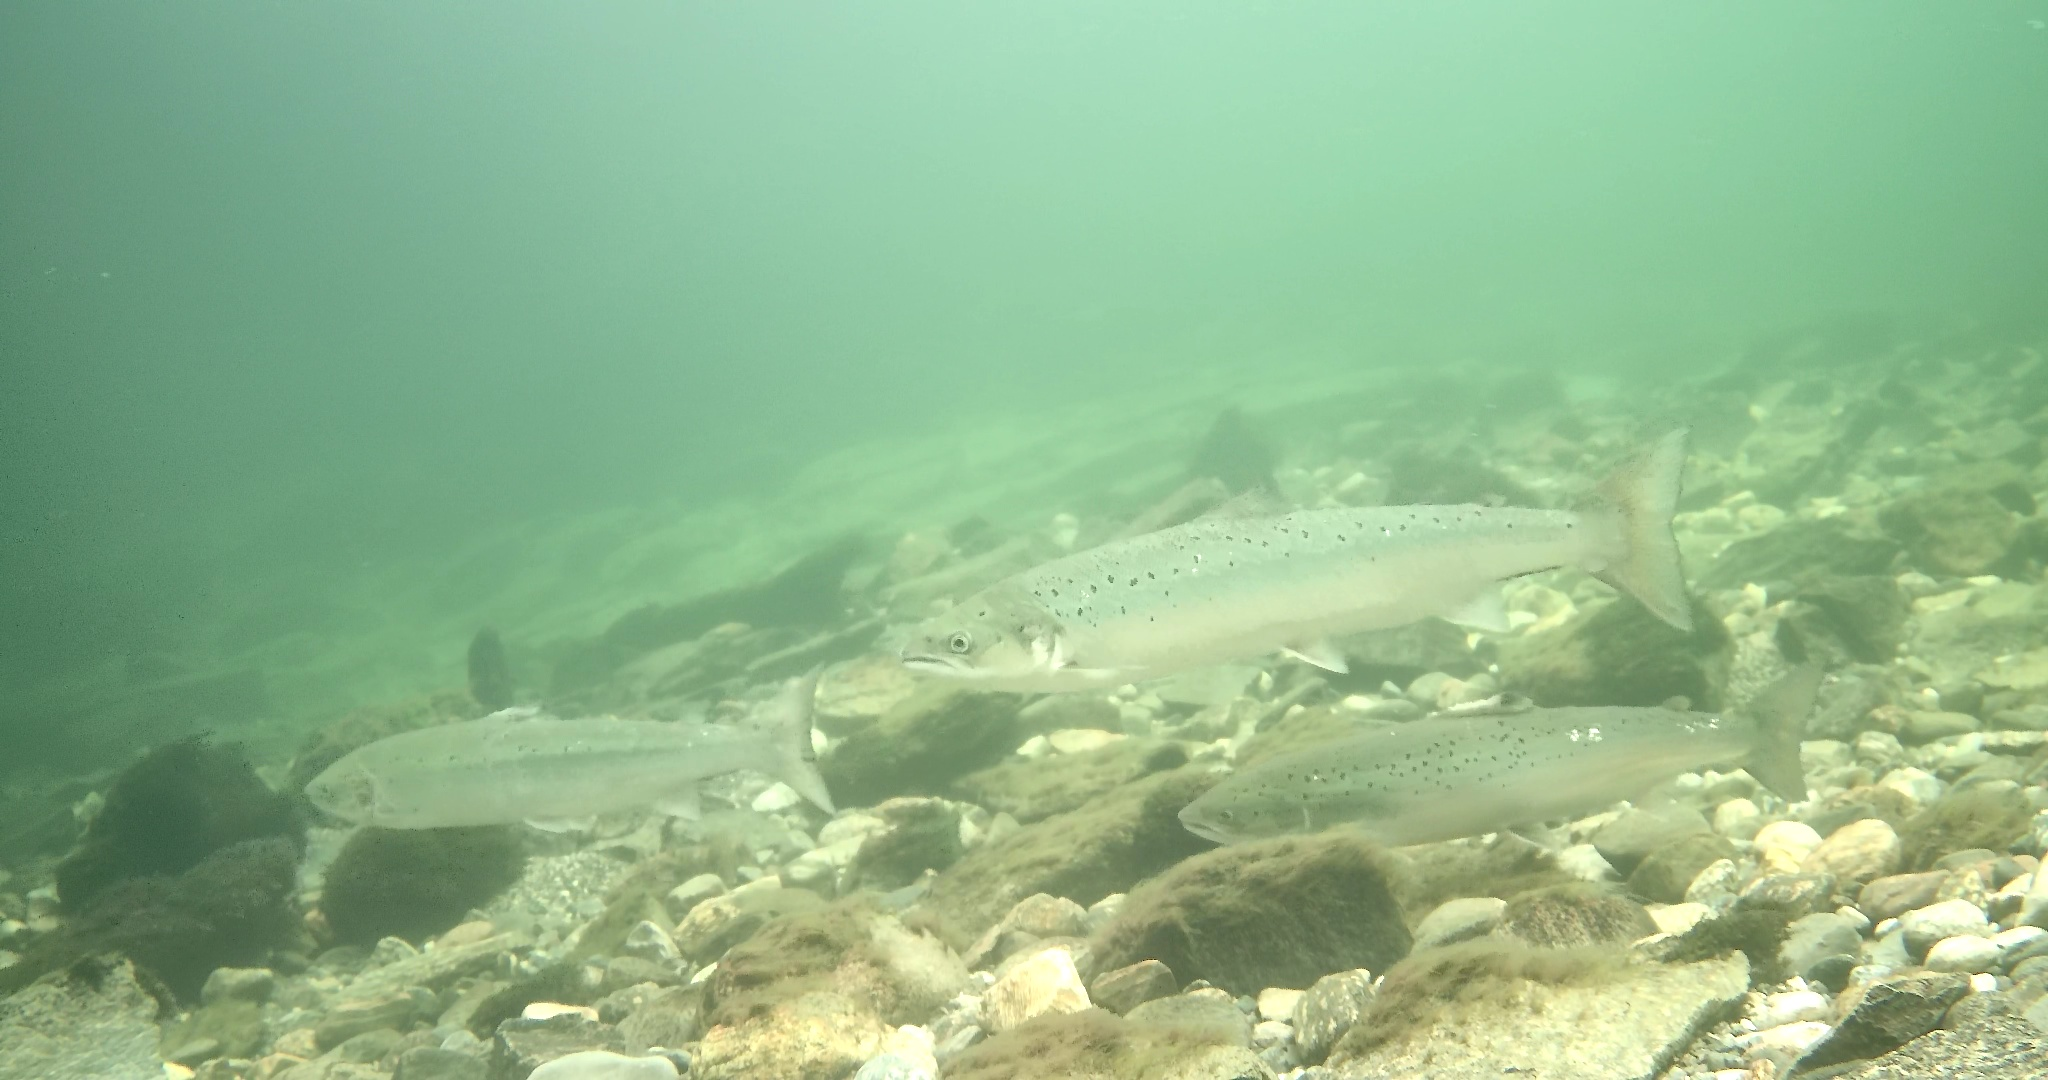salmon: (899, 421, 1694, 697), (1180, 661, 1825, 852), (303, 659, 834, 833)
